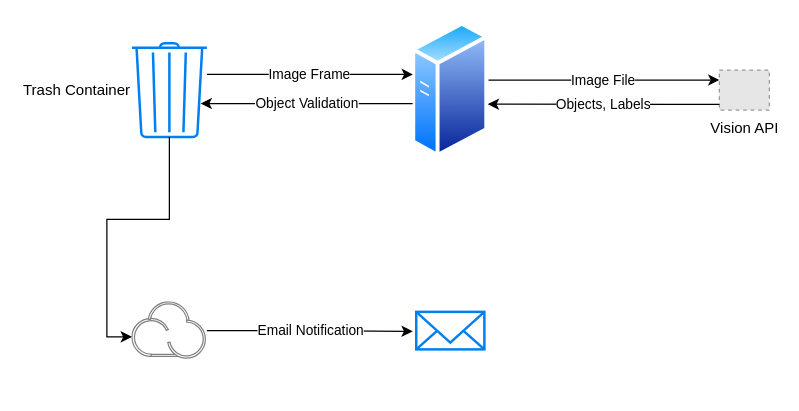
Some shapes in this 799 by 411 pixel diagram are drawn without their labels. Grey dashed boxes stand in for pictures. Each missing label, with the box of its shape:
AskSensors: (131, 301, 206, 359)
Mediator Server: (411, 21, 488, 158)
